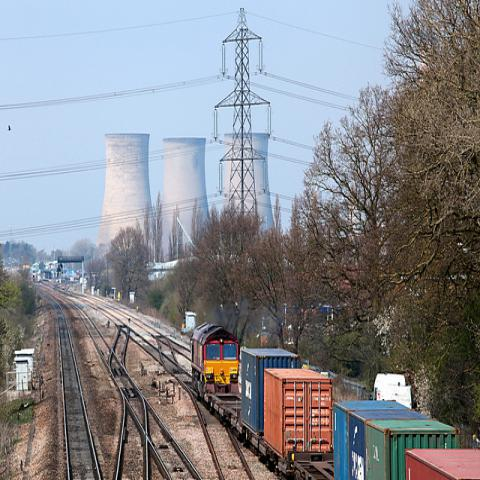truck: (190, 320, 479, 479)
